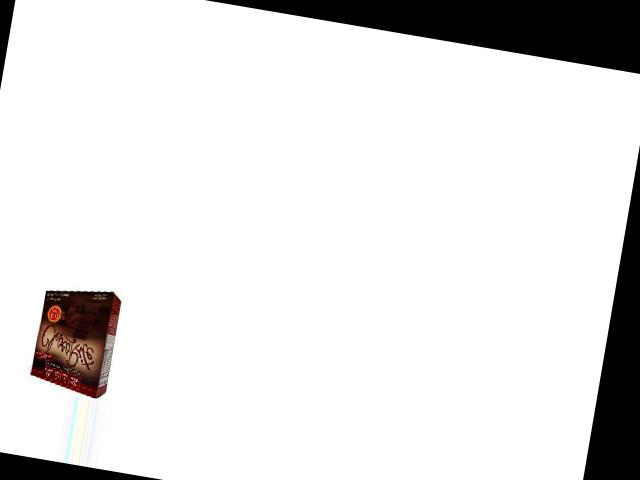chocolate: (27, 280, 122, 397)
